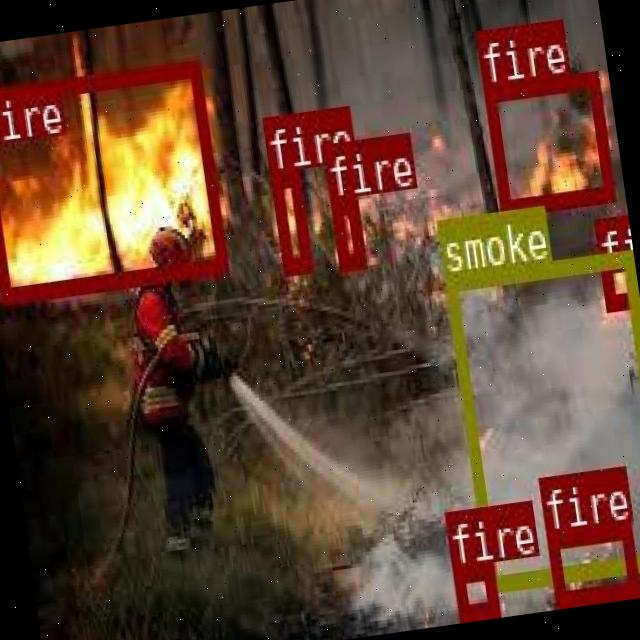fire: (0, 56, 227, 300), (482, 69, 613, 213), (545, 522, 637, 603), (268, 168, 310, 274), (592, 215, 636, 308), (330, 195, 364, 268), (452, 560, 496, 616)
smoke: (443, 248, 640, 588)
